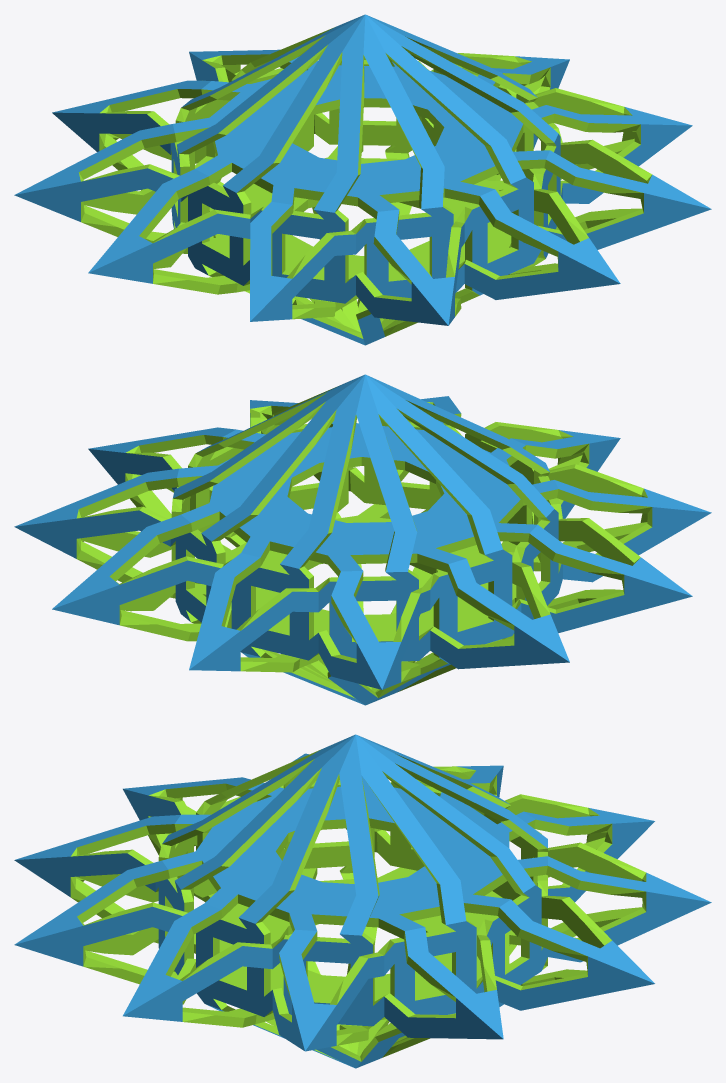
File: PrismicPolyknot11.glb
3 views of the same model, one above another, from view 1: azimuth 30°, elevation 25°; view 2: azimuth 150°, elevation 25°; view 3: azimuth 270°, elevation 25° (orthographic).
Visible parts, largest first — view 1: 3D_ESCHER_prism11; view 2: 3D_ESCHER_prism11; view 3: 3D_ESCHER_prism11.
Part boxes in pixels (x1,y1,x2,y2): 3D_ESCHER_prism11: [14, 14, 711, 345]; 3D_ESCHER_prism11: [14, 374, 711, 705]; 3D_ESCHER_prism11: [14, 734, 711, 1068].
Size of the model in its own units: 69.98 by 36.59 by 69.26.
